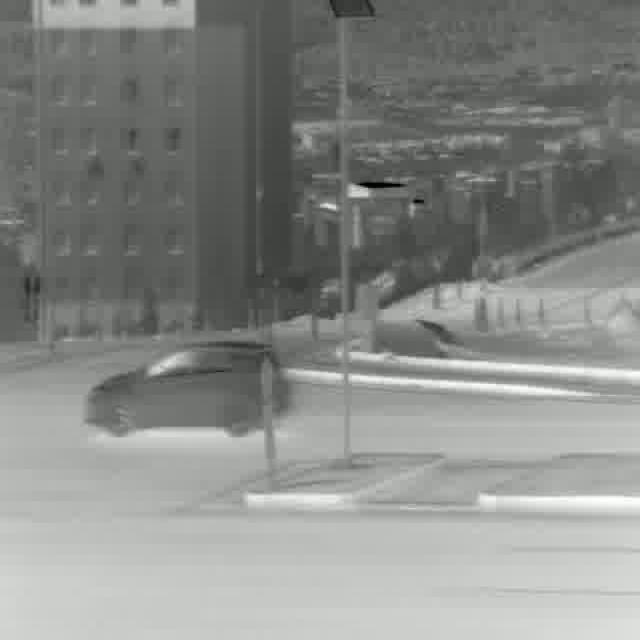Car: (86, 342, 282, 439)
